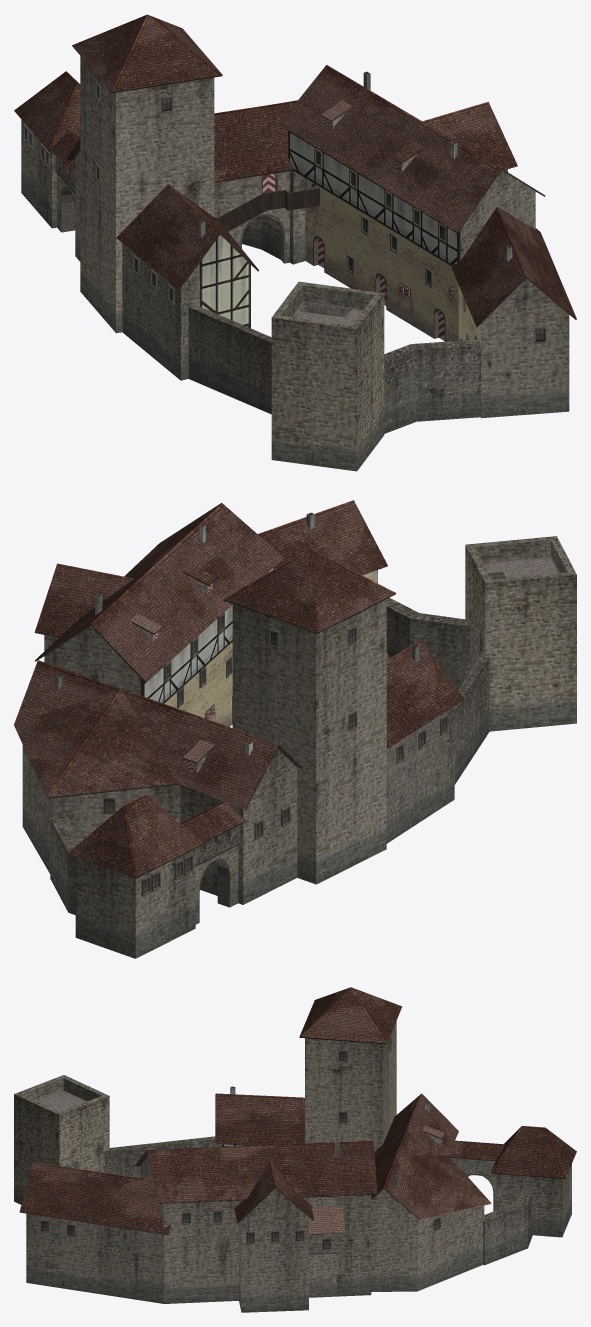
The picture shows the model from 3 angles, top to bottom: view 1: azimuth 30°, elevation 25°; view 2: azimuth 150°, elevation 25°; view 3: azimuth 270°, elevation 25°; orthographic projection. The views are drawn at different scales.
Visible parts, largest first — view 1: TRH8YHT4JUL6NCO554F9LB1I2; view 2: TRH8YHT4JUL6NCO554F9LB1I2; view 3: TRH8YHT4JUL6NCO554F9LB1I2.
Boxes of the visible parts, box(x1,y1,x2,y2) form: TRH8YHT4JUL6NCO554F9LB1I2: box(14, 14, 576, 471); TRH8YHT4JUL6NCO554F9LB1I2: box(14, 500, 576, 958); TRH8YHT4JUL6NCO554F9LB1I2: box(14, 987, 576, 1312).
Bounding box in the file's own units: 140 × 107 × 250.
Materials: 1 (1 with a texture image).
